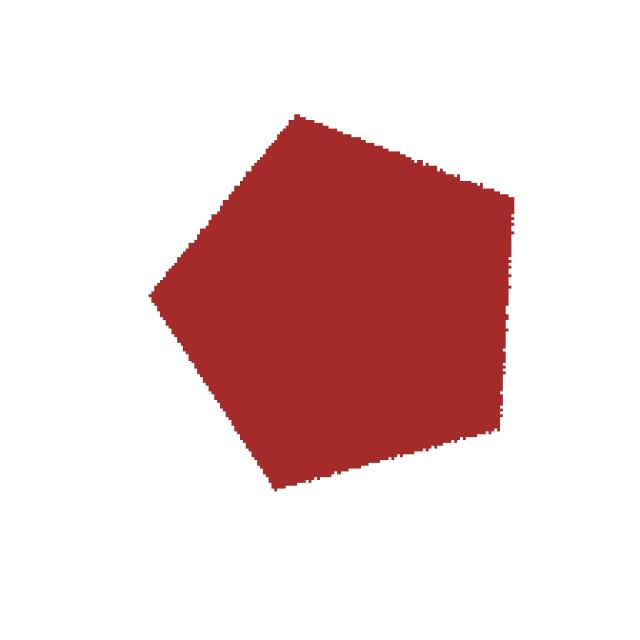Pentagon: (117, 94, 606, 504)
